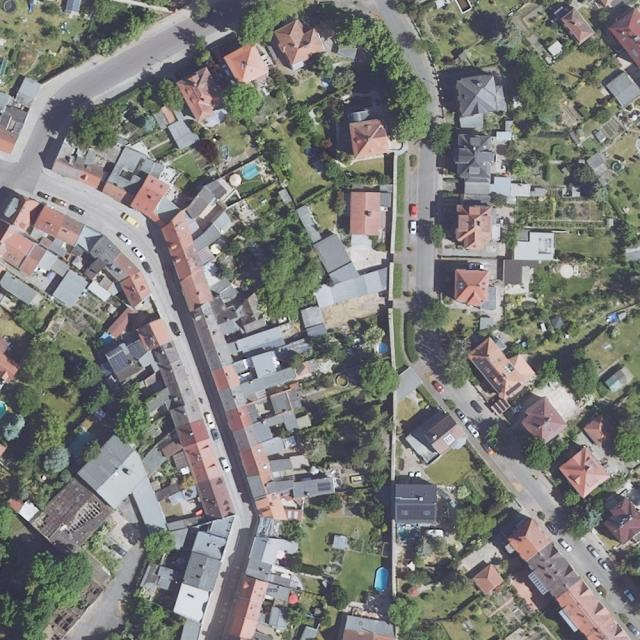PV: (109, 352, 131, 371), (127, 341, 144, 360), (318, 481, 331, 490)
ST: (266, 588, 278, 594)
